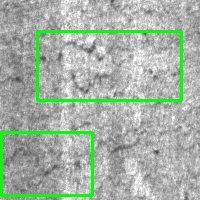crazing: (37, 31, 181, 100), (1, 132, 92, 195)
